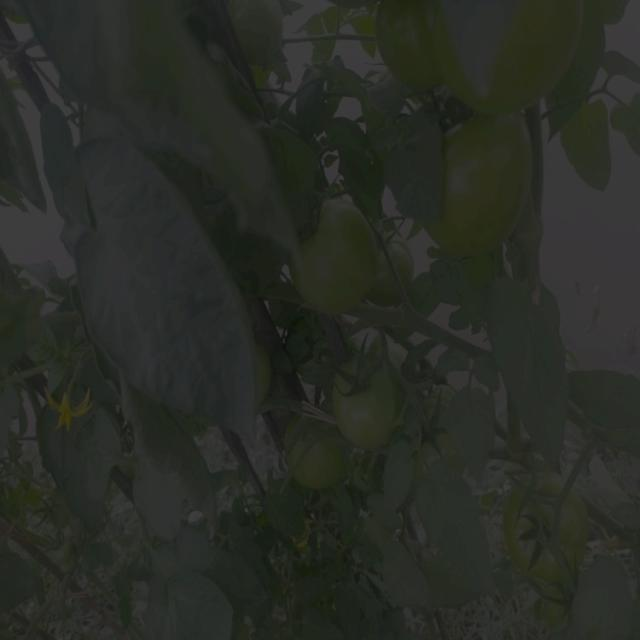tomato: (428, 105, 552, 266), (284, 193, 387, 313), (511, 490, 598, 596), (376, 1, 460, 99), (512, 1, 593, 93), (333, 351, 409, 446), (281, 405, 341, 469), (233, 1, 292, 57), (249, 328, 279, 398)
